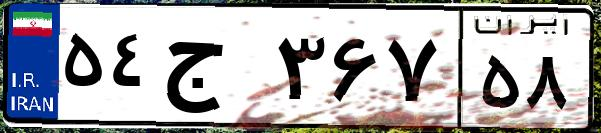3: (270, 28, 330, 110)
4: (110, 28, 158, 98)
5: (57, 26, 110, 100), (475, 38, 525, 113)
6: (330, 28, 385, 110)
7: (385, 28, 445, 110)
8: (525, 38, 570, 115)
ج: (158, 20, 270, 120)
